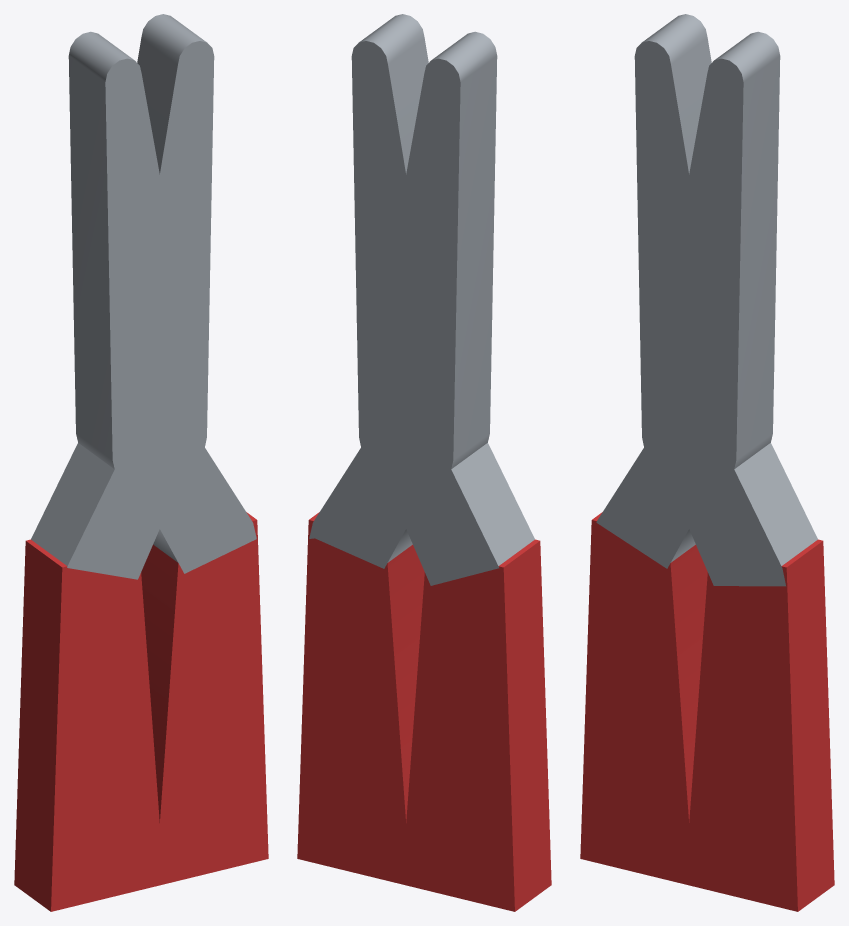
File: pliers.glb
3 renders of one model, left to right at view 1: azimuth 30°, elevation 25°; view 2: azimuth 150°, elevation 25°; view 3: azimuth 330°, elevation 25°, orthographic.
Parts seen in each view (by area): view 1: pliers; view 2: pliers; view 3: pliers.
Part boxes in pixels (x1,y1,x2,y2): pliers: (14,14,268,911); pliers: (297,14,551,911); pliers: (580,14,834,911).
Bounding box in the file's own units: 0.0246 × 0.09 × 0.00716.
